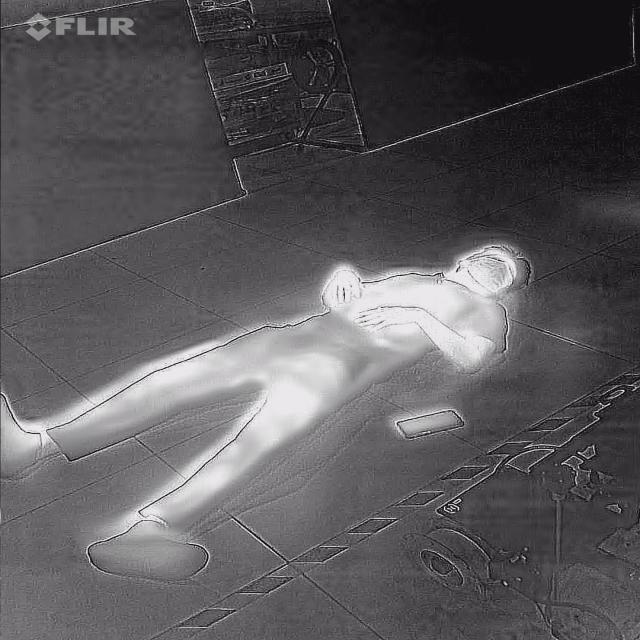Victim: (0, 230, 546, 586)
